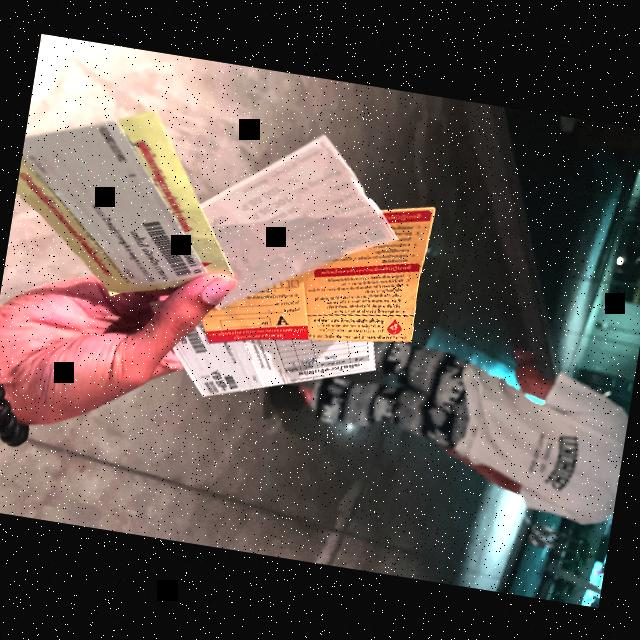scrap_paper: (1, 93, 261, 325), (182, 93, 418, 338), (191, 170, 457, 370), (159, 273, 390, 428)
